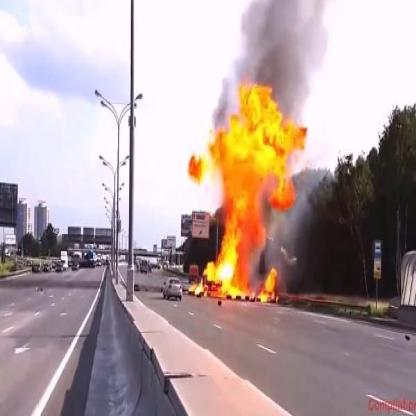fire: (202, 74, 309, 302), (186, 151, 209, 189), (188, 277, 202, 297)
